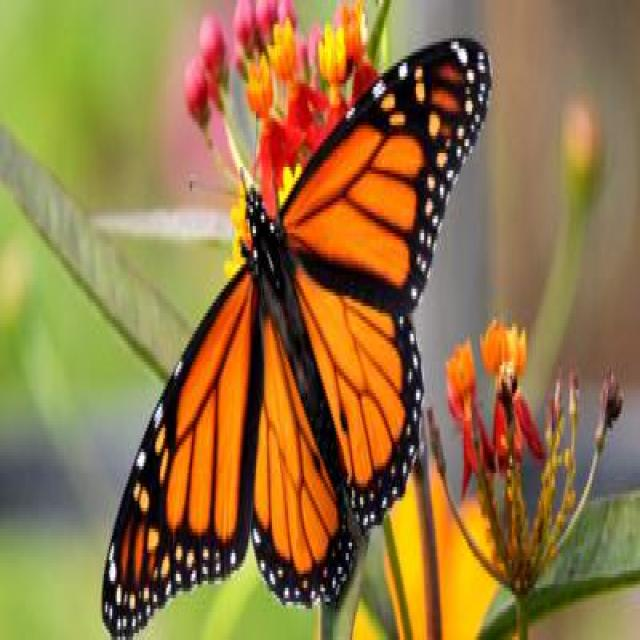antennae: (170, 98, 270, 206)
body: (242, 181, 346, 494)
insect: (98, 37, 491, 636)
wings: (278, 42, 488, 528), (100, 256, 354, 634)
